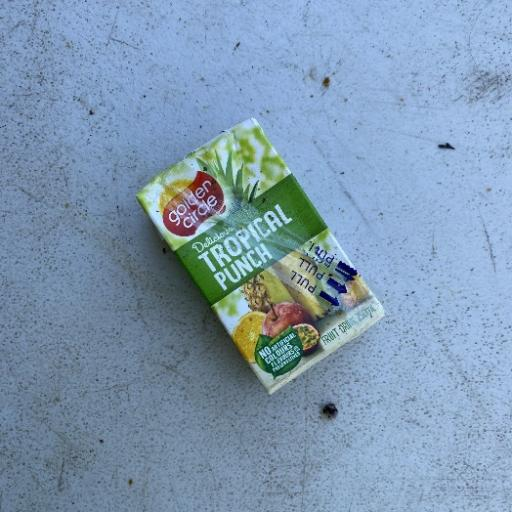Cardboard: (134, 116, 386, 396)
